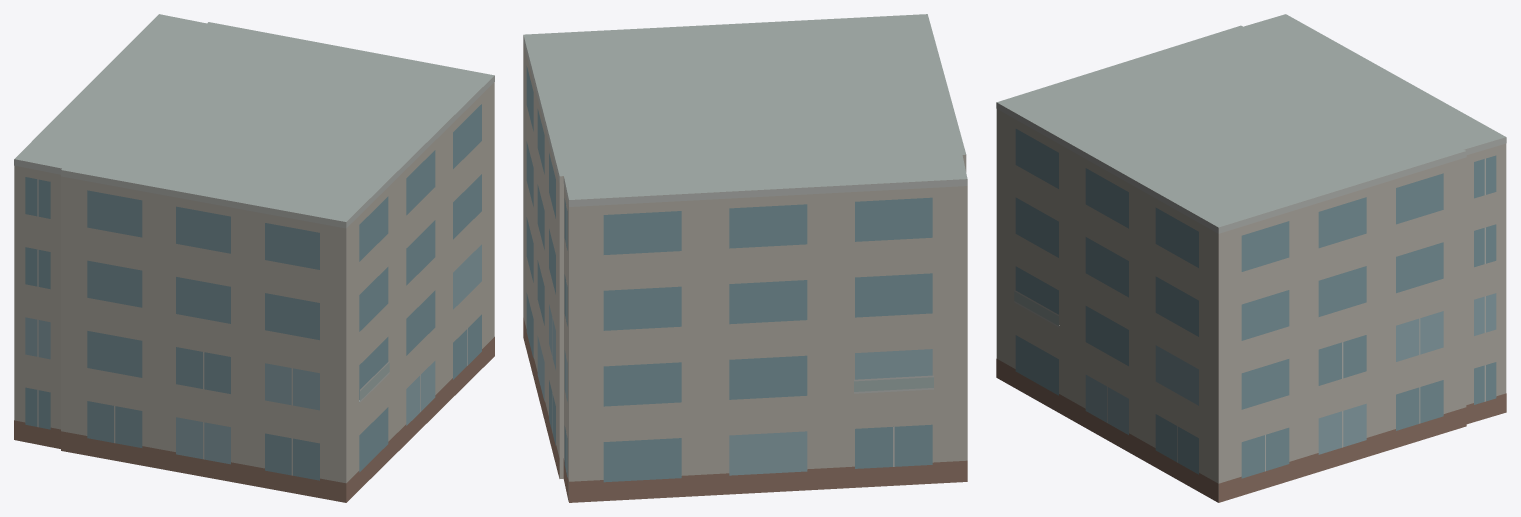
Rendered from survey-upis-33003091.glb.
The picture shows the model from 3 angles, left to right: view 1: azimuth 30°, elevation 25°; view 2: azimuth 150°, elevation 25°; view 3: azimuth 270°, elevation 25°; orthographic projection. The views are drawn at different scales.
Visible parts, largest first — view 1: survey-upis-33003091.tmp; view 2: survey-upis-33003091.tmp; view 3: survey-upis-33003091.tmp.
Boxes of the visible parts, left/top/right/bottom form: survey-upis-33003091.tmp: left=14, top=14, right=494, bottom=502; survey-upis-33003091.tmp: left=523, top=14, right=967, bottom=502; survey-upis-33003091.tmp: left=996, top=14, right=1506, bottom=502.
Bounding box in the file's own units: 17.64 × 10.6 × 17.8.
